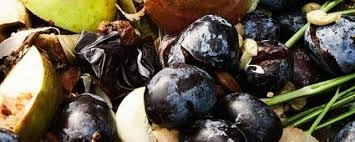kitchen_waste: (1, 42, 62, 142), (142, 60, 221, 135), (108, 82, 183, 142), (254, 67, 355, 109), (297, 7, 355, 77), (173, 10, 236, 72), (232, 36, 295, 95), (219, 90, 285, 142), (55, 89, 119, 142), (233, 7, 284, 47)
plastic: (71, 28, 139, 108)
